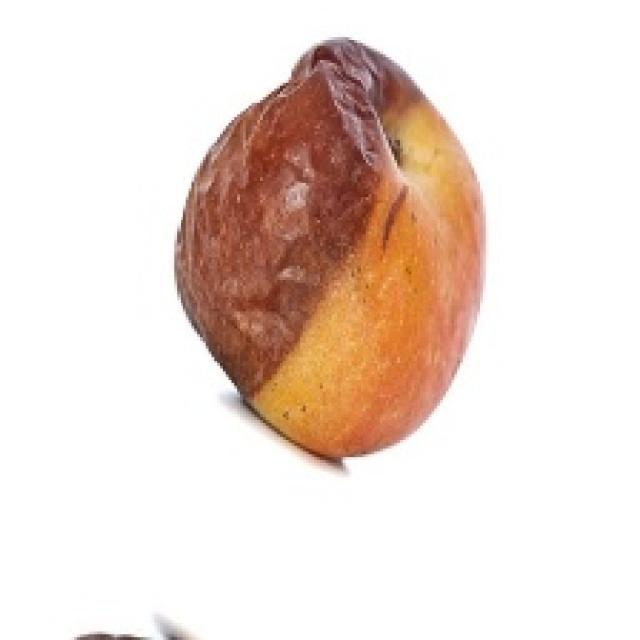rotten_apple: (191, 46, 477, 451)
